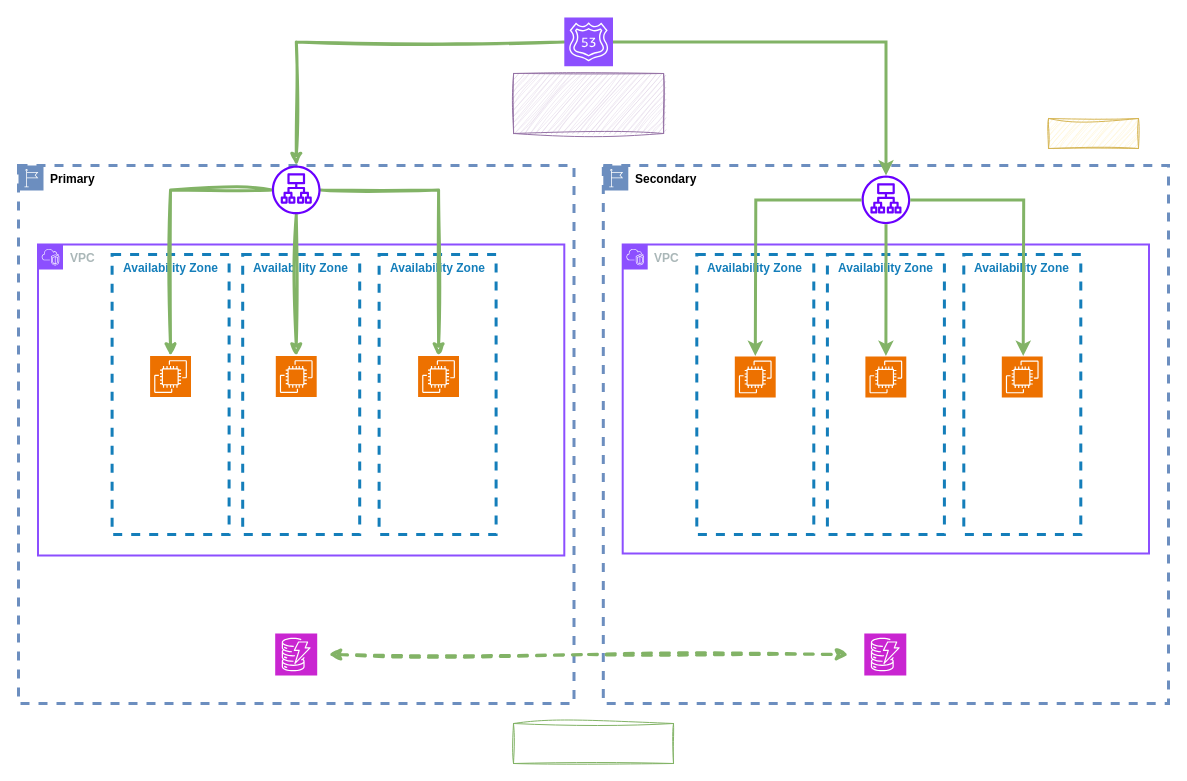
This 1187x781 diagram has some shape labels left out. Each missing label, with the centre of its shape:
Active/Active: the point at 1093,133
DynamoDB Global Tables auto-replication: the point at 593,743
Route 53 DNS Weighted Routing 50/50: the point at 588,103
